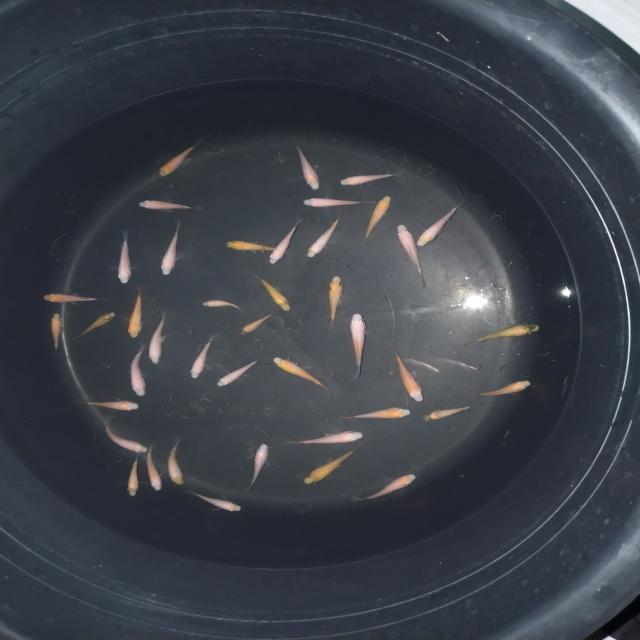nila: (408, 195, 466, 251), (299, 448, 363, 490), (268, 352, 332, 394), (387, 219, 428, 283), (92, 416, 152, 459), (390, 346, 430, 408), (348, 471, 422, 504), (153, 134, 205, 180), (470, 316, 543, 348), (262, 218, 308, 268), (303, 211, 349, 260), (288, 141, 327, 196), (210, 354, 270, 389), (154, 221, 187, 283), (248, 274, 298, 314), (220, 234, 294, 260), (287, 426, 369, 449), (359, 190, 394, 242), (142, 310, 172, 370), (296, 190, 375, 212), (134, 442, 166, 494), (186, 332, 218, 383), (414, 402, 478, 427), (474, 374, 538, 399), (347, 309, 370, 378), (36, 286, 108, 308), (74, 307, 119, 342), (133, 197, 207, 218), (74, 393, 146, 414), (110, 235, 138, 288), (189, 490, 245, 516), (334, 169, 406, 189), (346, 402, 414, 422), (245, 438, 272, 488), (324, 269, 346, 330), (234, 311, 276, 341), (164, 434, 188, 486), (124, 288, 148, 340), (122, 453, 145, 500), (128, 340, 146, 398), (46, 307, 64, 355), (198, 298, 248, 310)
